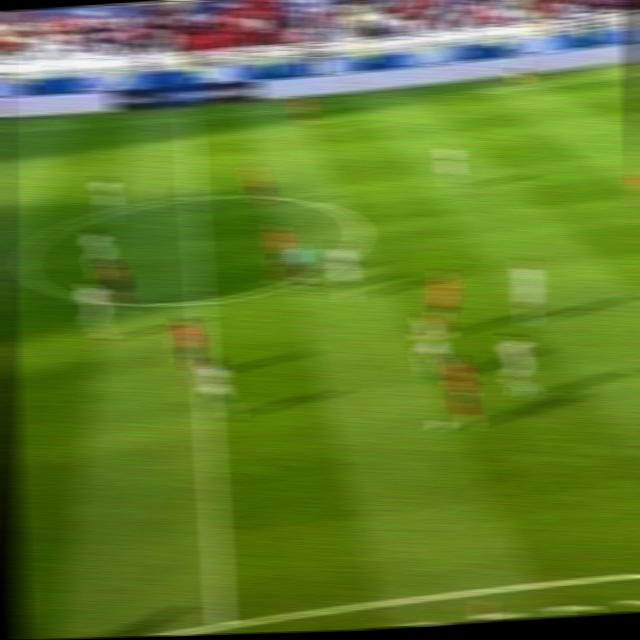halfcircle_bottom: (185, 283, 217, 318)
halfcircle_top: (176, 184, 209, 211)
midline_bottom_intersection: (199, 601, 243, 634)
midline_top_intersection: (176, 108, 200, 127)
